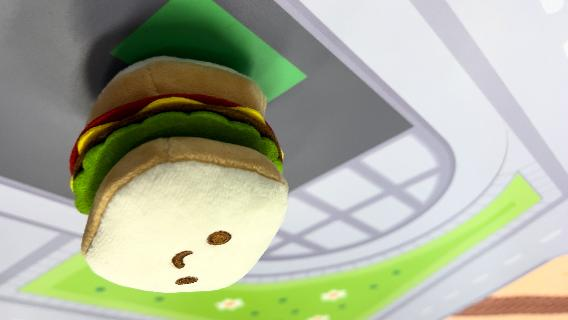sandwich: (66, 53, 292, 293)
